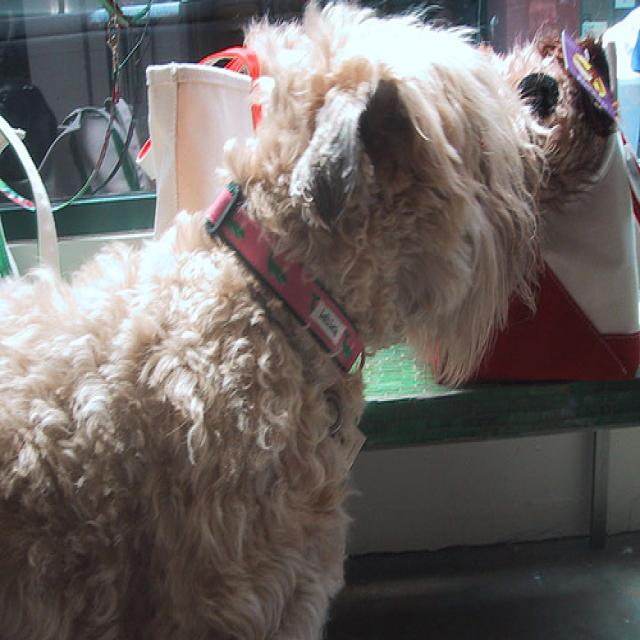dog-wheaten_terrier: (1, 2, 548, 637)
